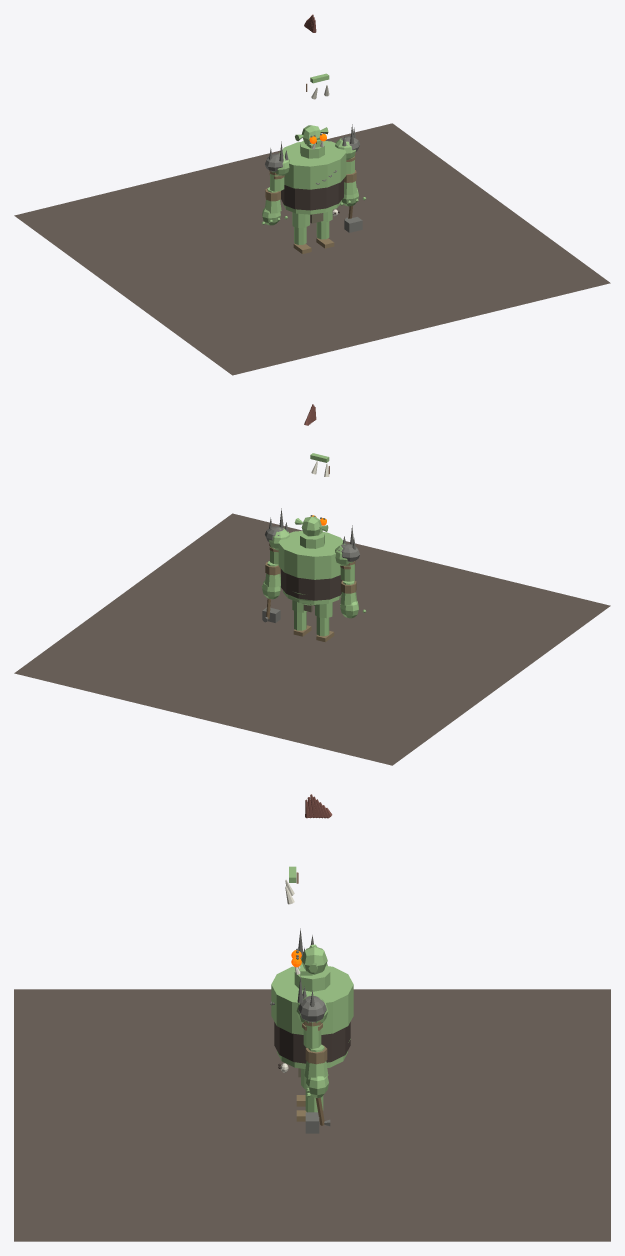
File: Brute.glb
3 views of the same model, one above another, from view 1: azimuth 30°, elevation 25°; view 2: azimuth 150°, elevation 25°; view 3: azimuth 270°, elevation 25° (orthographic). The views are drawn at different scales.
Visible parts, largest first — view 1: Ground, UpperTorso, Vest; view 2: Ground, UpperTorso, Vest; view 3: Ground, UpperTorso, Vest, Neck.
Part boxes in pixels (x1,y1,x2,y2): Ground: (14, 123, 610, 375); UpperTorso: (280, 141, 346, 189); Vest: (281, 179, 343, 210); Ground: (14, 513, 610, 765); UpperTorso: (278, 531, 342, 579); Vest: (281, 569, 342, 600); Ground: (14, 989, 610, 1241); UpperTorso: (271, 966, 353, 1034); Vest: (274, 1022, 350, 1063); Neck: (294, 967, 330, 991).
Bounding box in the file's own units: 6 × 3.56 × 6.
